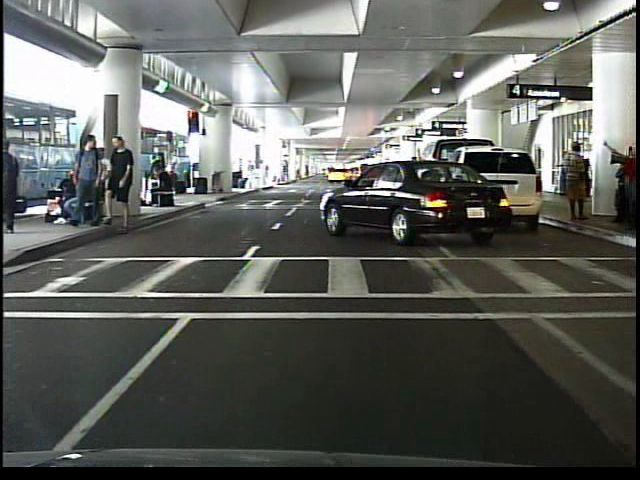person: (5, 138, 32, 238), (559, 142, 590, 229), (146, 163, 176, 210)
